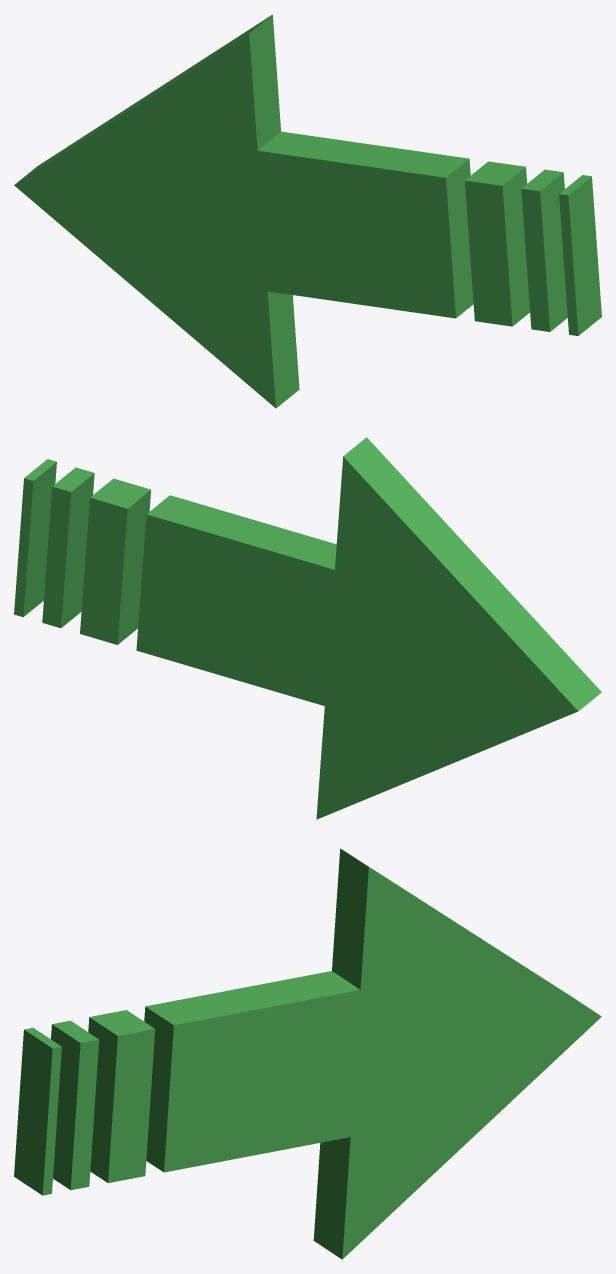
File: arrow.glb
3 renders of one model, top to bottom at view 1: azimuth 30°, elevation 25°; view 2: azimuth 210°, elevation 25°; view 3: azimuth 270°, elevation 25°, orthographic. The views are drawn at different scales.
Parts seen in each view (by area): view 1: Cube; view 2: Cube; view 3: Cube.
Part boxes in pixels (bbox=[...]): Cube: bbox=[14, 14, 601, 408]; Cube: bbox=[14, 437, 601, 819]; Cube: bbox=[14, 848, 601, 1259].
Size of the model in its own units: 1.91 by 2.02 by 2.79.
